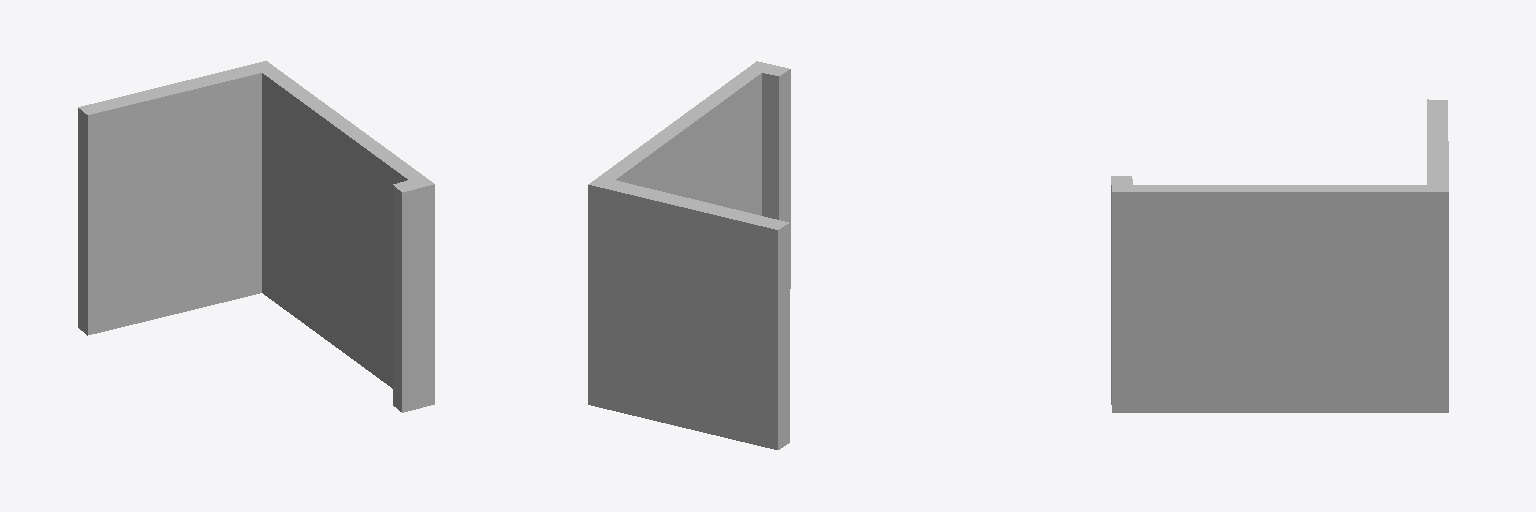
Rendered from bright_113_wall1.obj.
3 renders of one model, left to right at view 1: azimuth 30°, elevation 25°; view 2: azimuth 150°, elevation 25°; view 3: azimuth 270°, elevation 25°, orthographic.
Visible parts, largest first — view 1: polySurface17; view 2: polySurface17; view 3: polySurface17.
Boxes of the visible parts, x1=… form: polySurface17: x1=78, y1=61, x2=434, y2=412; polySurface17: x1=588, y1=61, x2=790, y2=449; polySurface17: x1=1111, y1=99, x2=1448, y2=412.
Size of the model in its own units: 19.51 by 21.59 by 30.06.